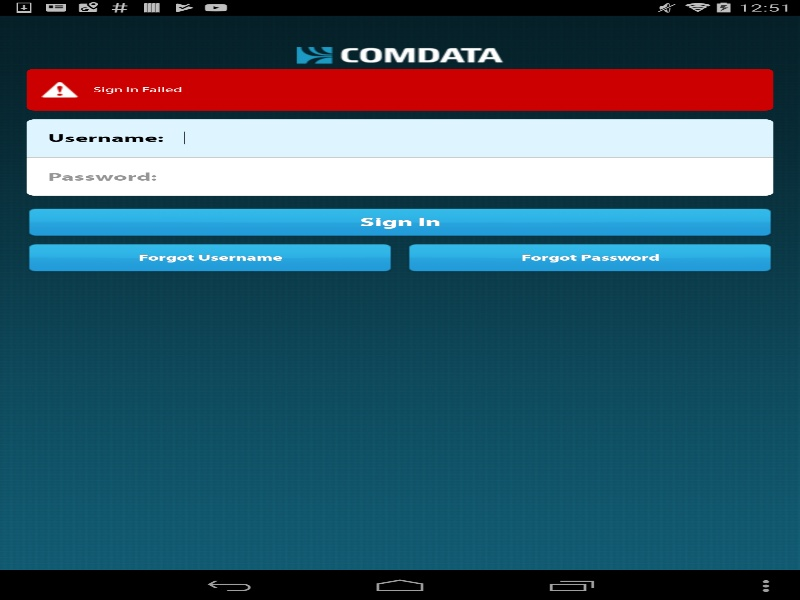Button: (26, 208, 773, 237), (26, 243, 393, 273), (406, 243, 773, 273)
Input: (184, 119, 773, 156), (184, 158, 773, 195)
